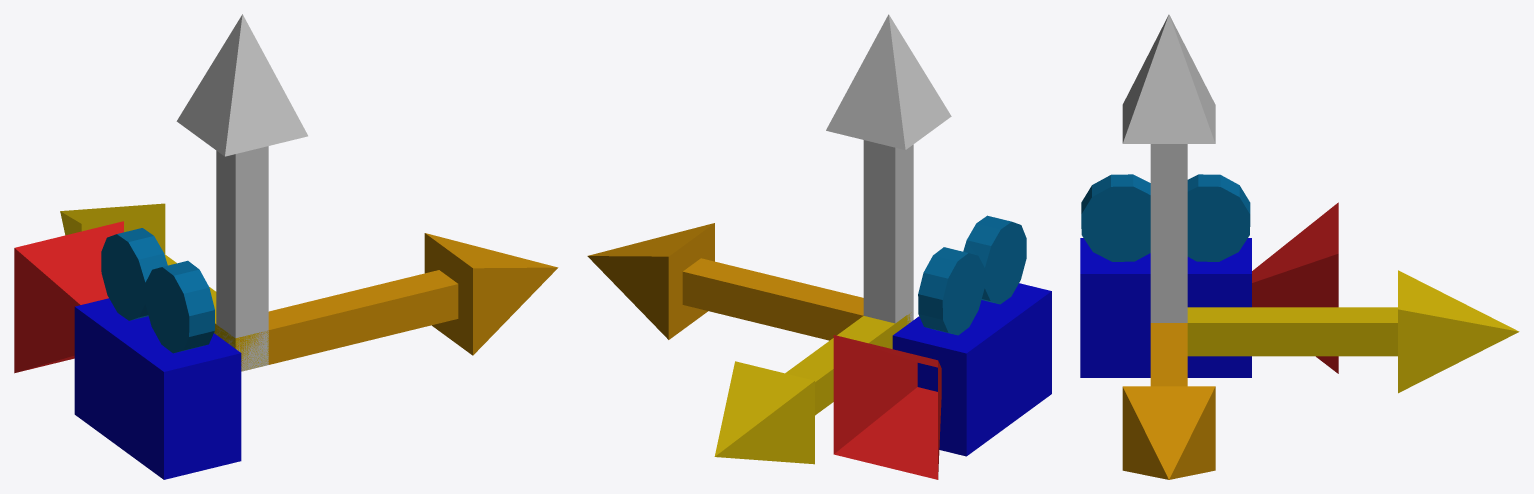
File: INVISIBLE_ZCCAMTRJ_KEYFRAME.OBJ
3 renders of one model, left to right at view 1: azimuth 30°, elevation 25°; view 2: azimuth 150°, elevation 25°; view 3: azimuth 270°, elevation 25°, orthographic. The views are drawn at different scales.
Visible parts, largest first — view 1: INVISIBLE_ZCCAMTRJ_KEYFRAME; view 2: INVISIBLE_ZCCAMTRJ_KEYFRAME; view 3: INVISIBLE_ZCCAMTRJ_KEYFRAME.
Boxes of the visible parts, x1=… form: INVISIBLE_ZCCAMTRJ_KEYFRAME: x1=14, y1=14, x2=558, y2=479; INVISIBLE_ZCCAMTRJ_KEYFRAME: x1=587, y1=14, x2=1051, y2=479; INVISIBLE_ZCCAMTRJ_KEYFRAME: x1=1080, y1=14, x2=1519, y2=479.
Size of the model in its own units: 0.2742 by 0.2308 by 0.2381.
